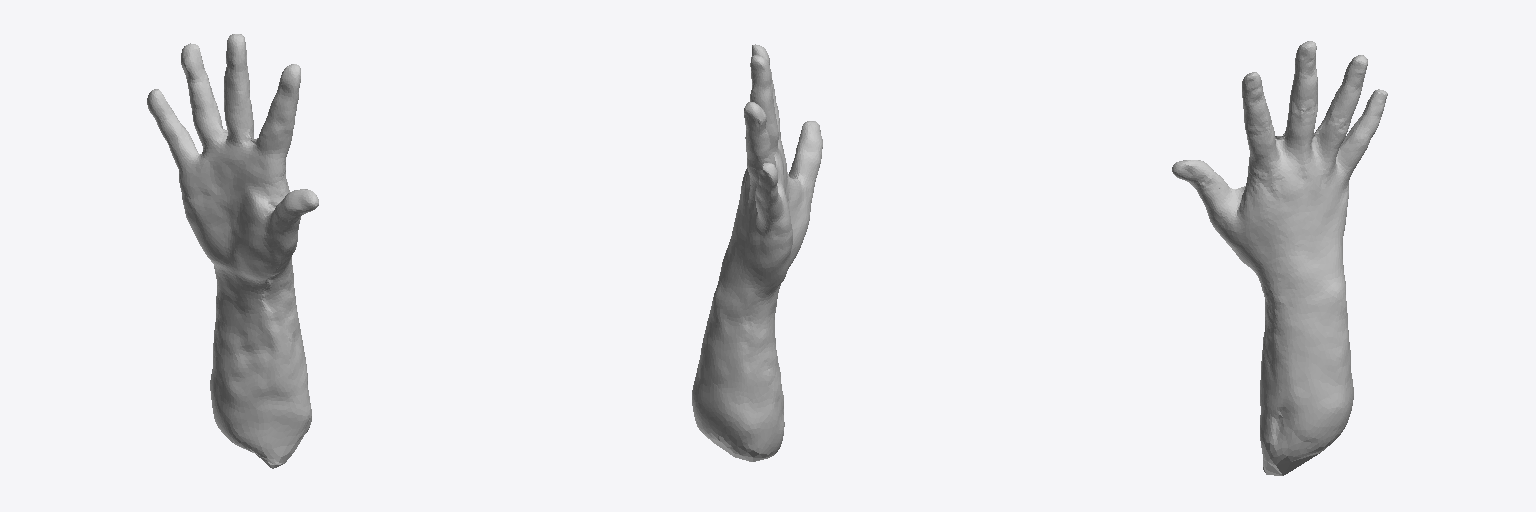
Rendered from measurable.obj.
The picture shows the model from 3 angles: view 1: azimuth 30°, elevation 25°; view 2: azimuth 150°, elevation 25°; view 3: azimuth 270°, elevation 25°; orthographic projection.
Bounding box in the file's own units: 92.48 × 324 × 150.